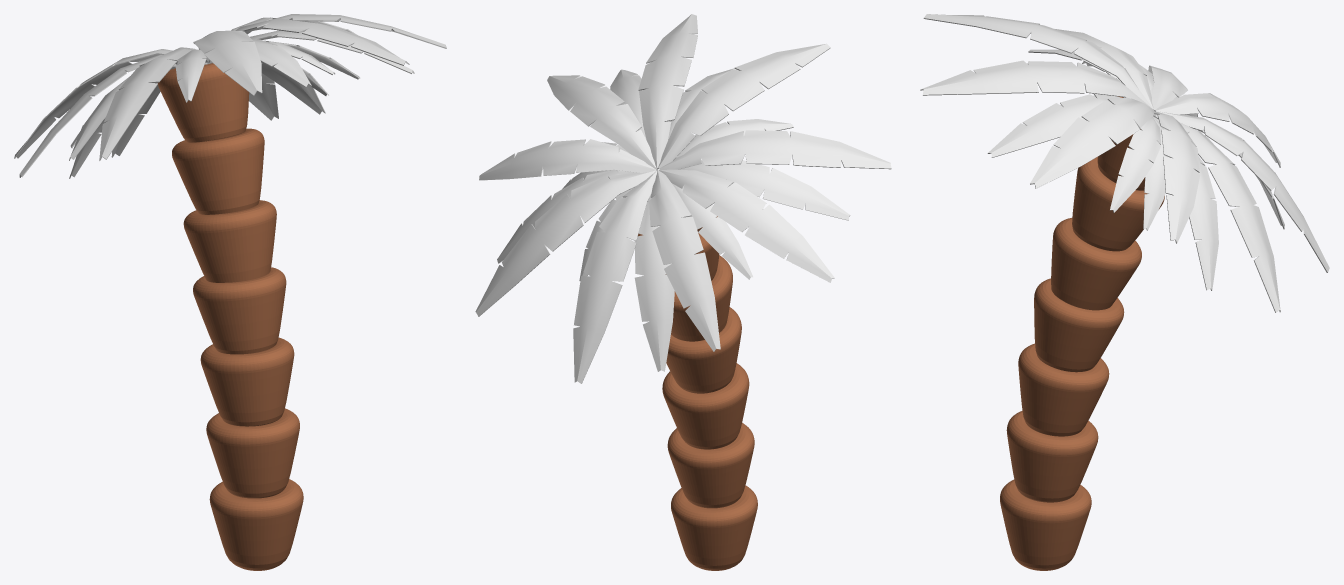
The model's file is Palmera2_15.fbx.
The picture shows the model from 3 angles, left to right: view 1: azimuth 30°, elevation 25°; view 2: azimuth 150°, elevation 25°; view 3: azimuth 270°, elevation 25°; orthographic projection. The views are drawn at different scales.
Visible parts, largest first — view 1: foliage.4_Plane.006; view 2: foliage.4_Plane.006; view 3: foliage.4_Plane.006.
Part boxes in pixels (x1,y1,x2,y2): foliage.4_Plane.006: (14, 14, 446, 570); foliage.4_Plane.006: (475, 14, 891, 570); foliage.4_Plane.006: (920, 14, 1329, 570).
Bounding box in the file's own units: 4863 × 6715 × 4757.
